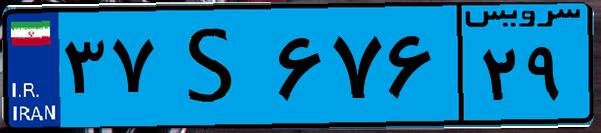2: (475, 38, 525, 113)
3: (57, 26, 110, 100)
6: (270, 28, 330, 110), (385, 28, 445, 110)
7: (330, 28, 385, 110), (110, 28, 158, 98)
9: (525, 38, 570, 115)
S: (158, 12, 270, 120)
